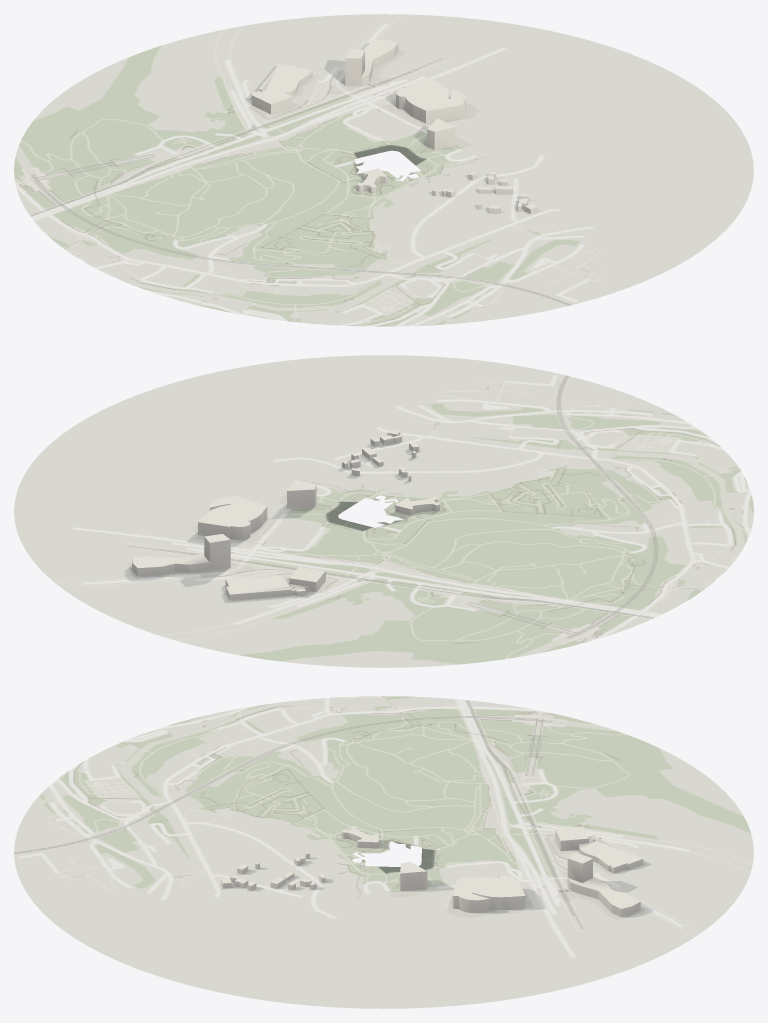
Rendered from context-map.glb.
3 renders of one model, top to bottom at view 1: azimuth 30°, elevation 25°; view 2: azimuth 150°, elevation 25°; view 3: azimuth 270°, elevation 25°, orthographic.
Visible parts, largest first — view 1: ground, context-massing; view 2: ground, context-massing; view 3: ground, context-massing.
Part boxes in pixels (box(x1,y1,x2,y2)): ground: box(14, 14, 753, 326); context-massing: box(251, 39, 538, 213); ground: box(14, 355, 753, 667); context-massing: box(132, 429, 439, 599); ground: box(14, 696, 753, 1008); context-massing: box(221, 826, 642, 917).
Bounding box in the file's own units: 1200 × 50.15 × 1200.
2 materials, 1 textured.
